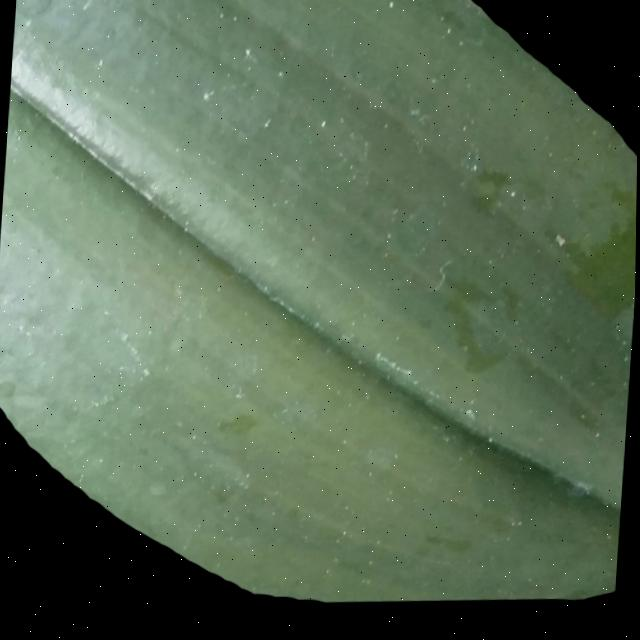mite: (581, 223, 637, 324), (423, 535, 476, 559), (15, 0, 54, 18), (231, 414, 258, 436), (550, 237, 570, 255)
